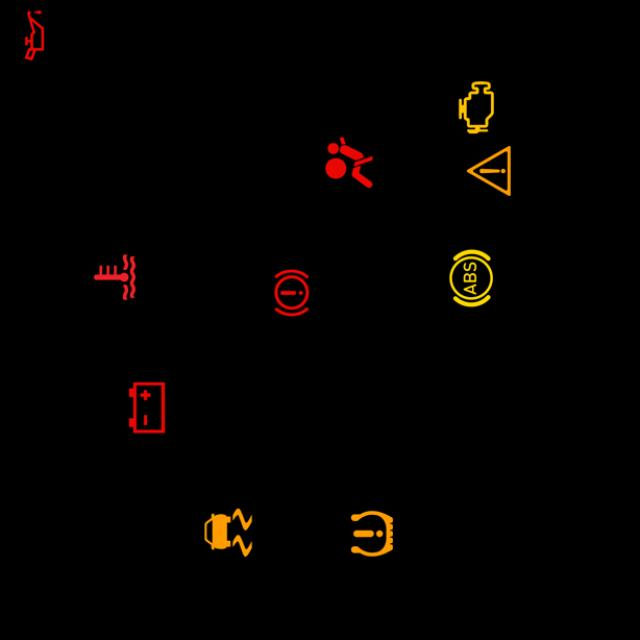Anti Lock Braking System: (440, 247, 502, 310)
Braking System Issue: (261, 262, 323, 324)
Charging System Issue: (116, 376, 178, 439)
Check Engine: (445, 76, 508, 139)
Electronic Stability Problem -ESP-: (197, 501, 260, 564)
Engine Overheating Warning Light: (83, 246, 146, 309)
Low Engine Oil Warning Light: (3, 4, 66, 67)
Low Tire Pressure Warning Light: (341, 502, 403, 565)
Master warning light: (458, 140, 520, 202)
SRS-Airbag: (318, 131, 380, 194)
